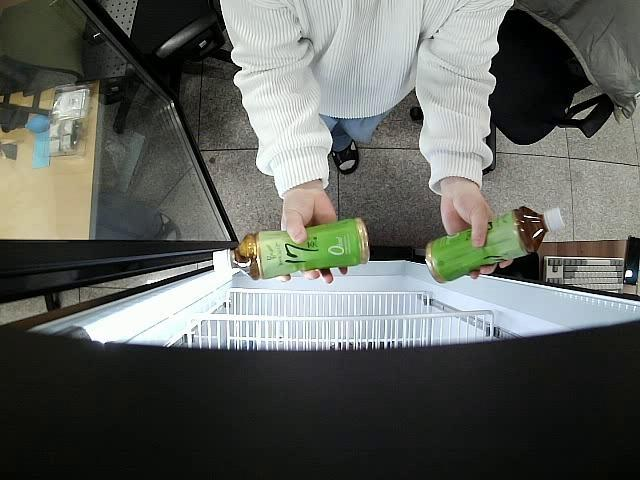19_17cha: (424, 204, 564, 284), (215, 220, 366, 281)
